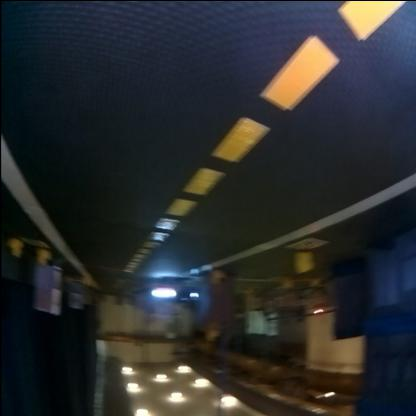Duckie: (298, 252, 314, 273), (9, 237, 22, 255), (37, 250, 51, 266), (212, 272, 224, 284)
QR code: (24, 238, 46, 246)
